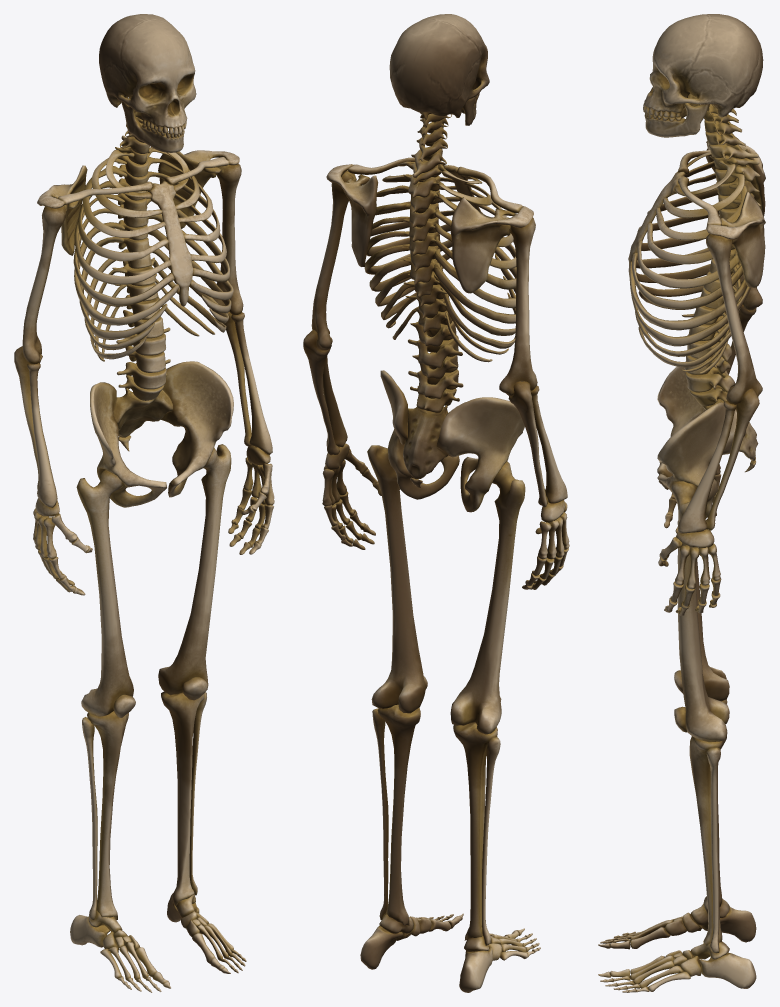
3 views of the same model, side by side, from view 1: azimuth 30°, elevation 25°; view 2: azimuth 150°, elevation 25°; view 3: azimuth 270°, elevation 25° (orthographic). The views are drawn at different scales.
Parts seen in each view (by area): view 1: human_skeleton.1_1_4; view 2: human_skeleton.1_1_4; view 3: human_skeleton.1_1_4.
Part boxes in pixels (x1,y1,x2,y2): human_skeleton.1_1_4: (14,14,274,992); human_skeleton.1_1_4: (303,14,569,992); human_skeleton.1_1_4: (598,14,765,992).
Bounding box in the file's own units: 0.0677 × 0.2615 × 0.042.
Materials: 1 (1 with a texture image).
